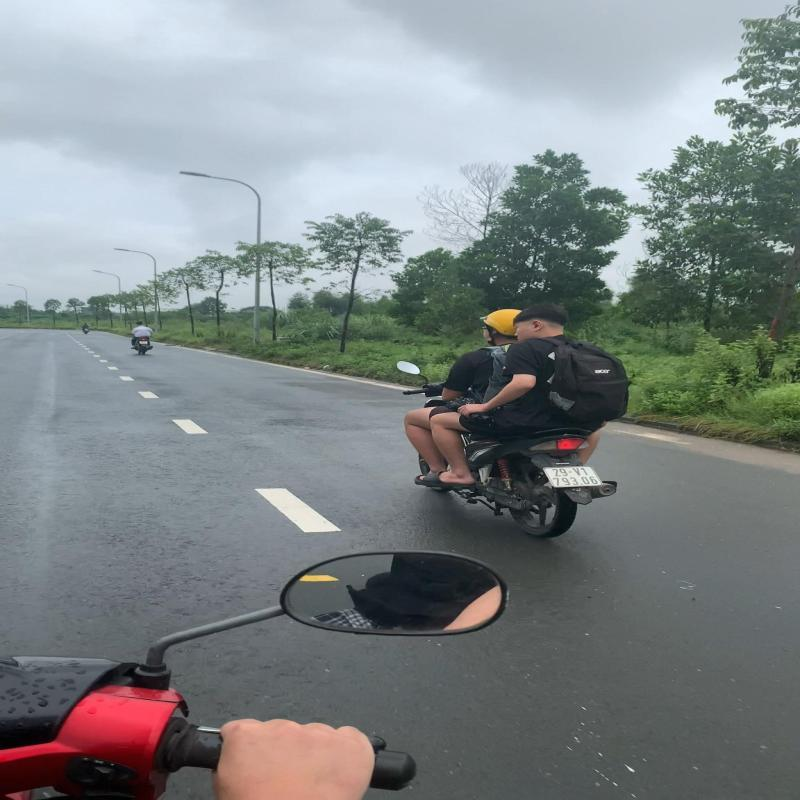helmet: (478, 308, 522, 343)
licenseplate: (544, 466, 604, 488)
motorcyclist: (390, 302, 635, 542)
nohelmet: (513, 303, 569, 336)
